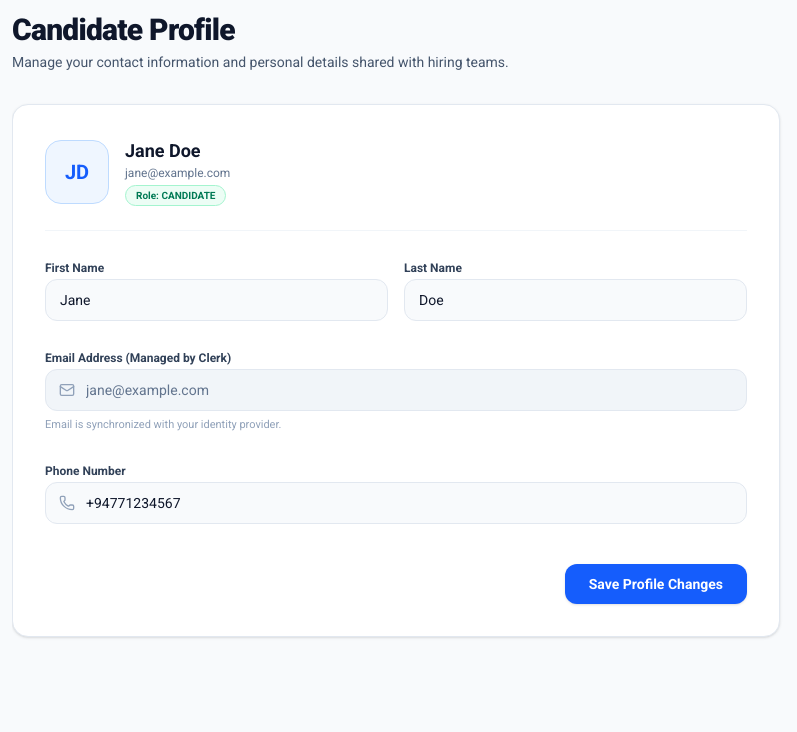
Test: CandidateProfilePage - Form Validation and Error Handling › API integration & state transitions › displays server error message when API rejects the update request
Click the button "Save Profile Changes". click: (656, 584)
box: [565, 564, 747, 604]
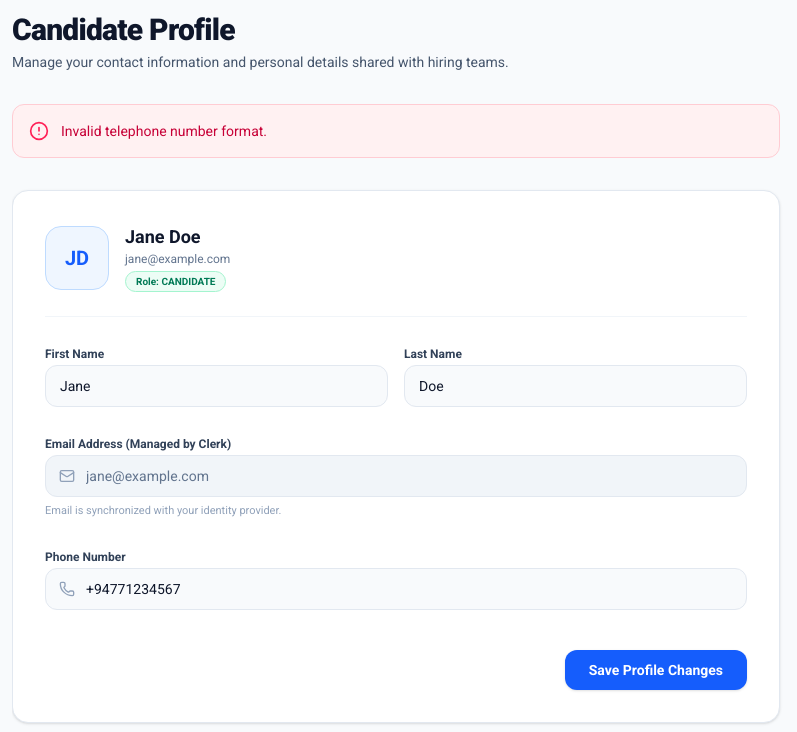
Now the text "Invalid telephone number format." is shown, box [61, 121, 267, 141]
